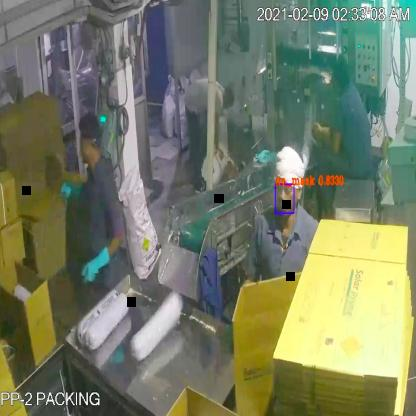glove: (80, 246, 116, 286), (59, 173, 89, 208)
no_glove: (307, 111, 346, 160)
